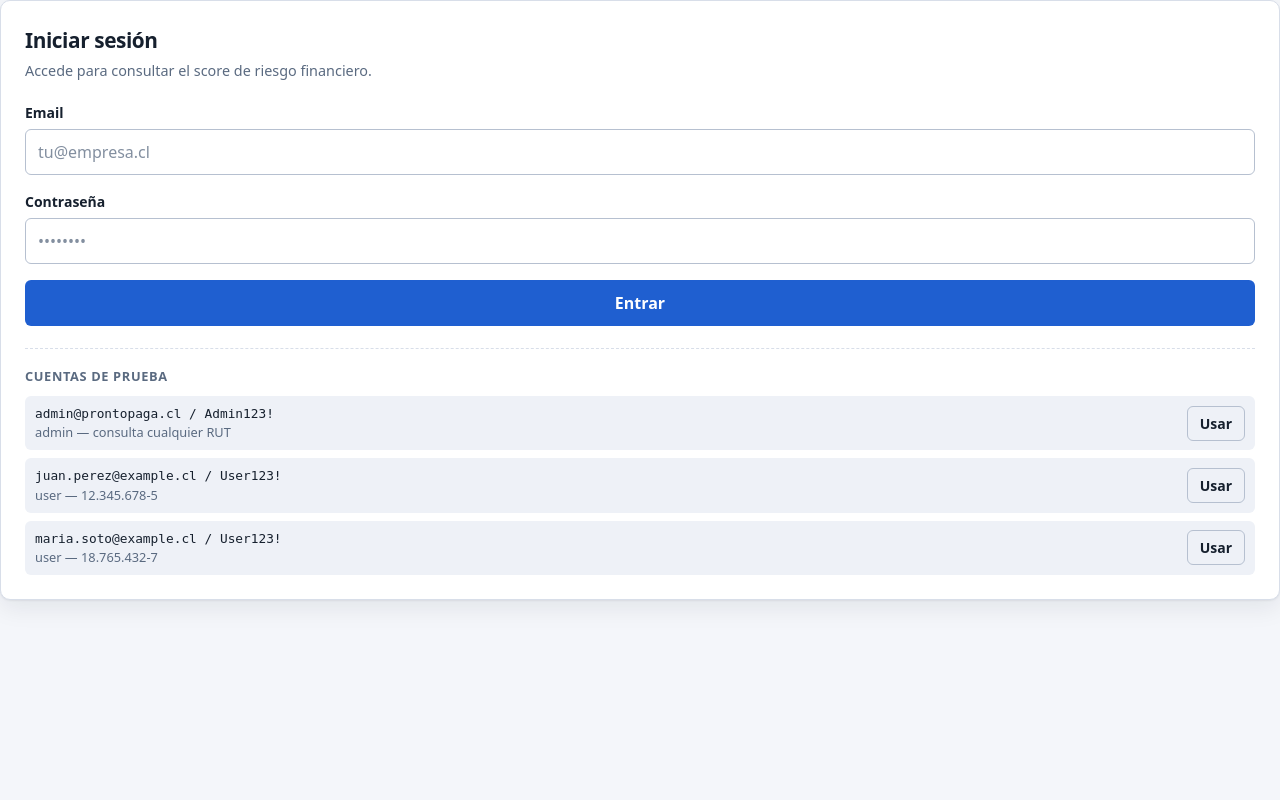
Test case: LoginPage › rechaza un email con formato invalido
Type "esto-no-es-un-email" into the field labelled "Email" at (640, 152), box [25,129,1255,175]
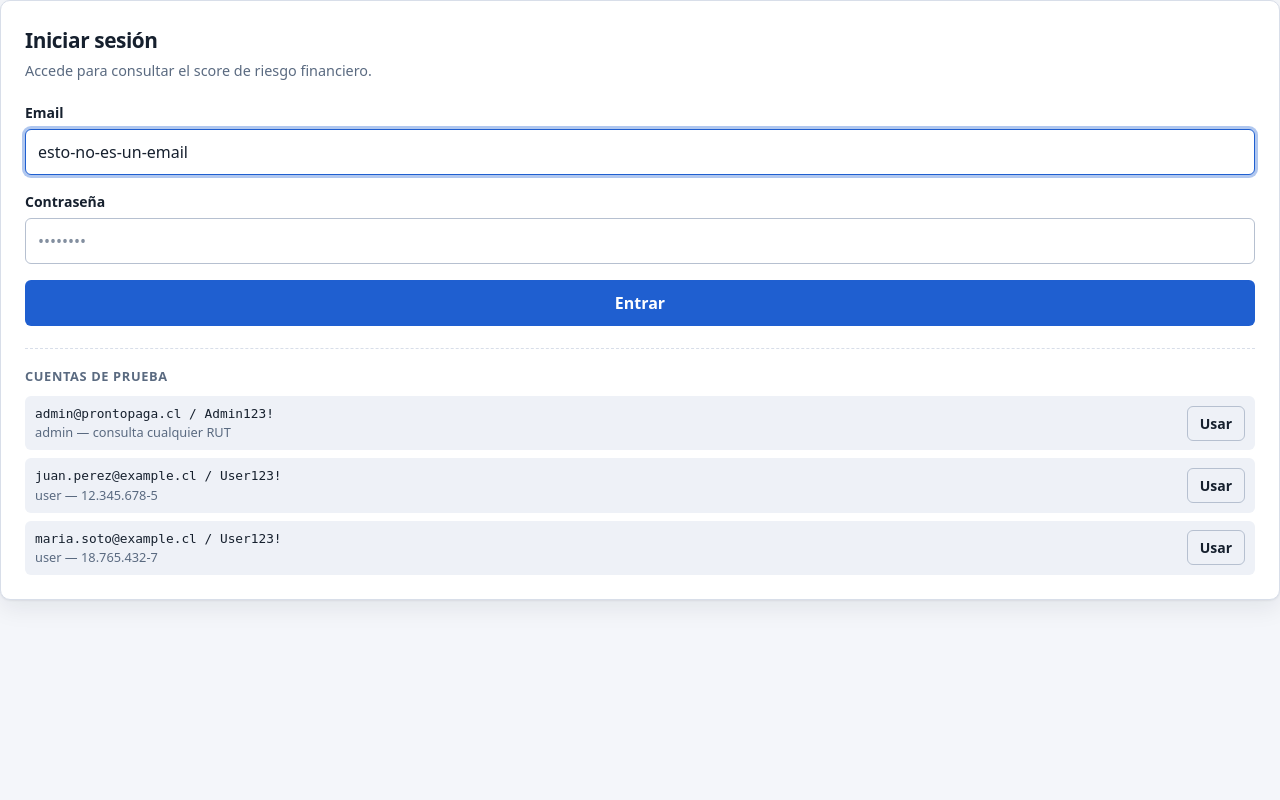
Type "cualquiera" into the password field labelled "Contraseña" at (640, 241), box [25,218,1255,264]
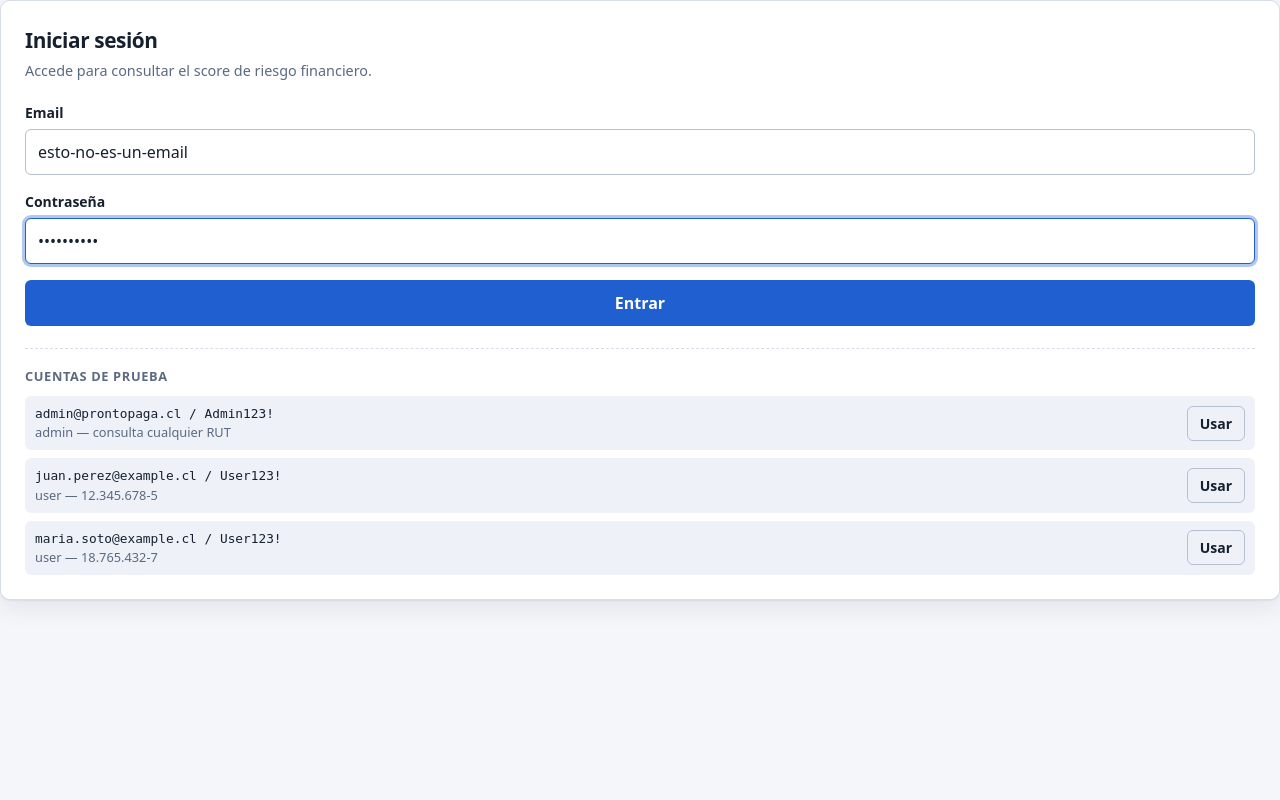
Click the button "Entrar" at (640, 303), box [25,280,1255,326]
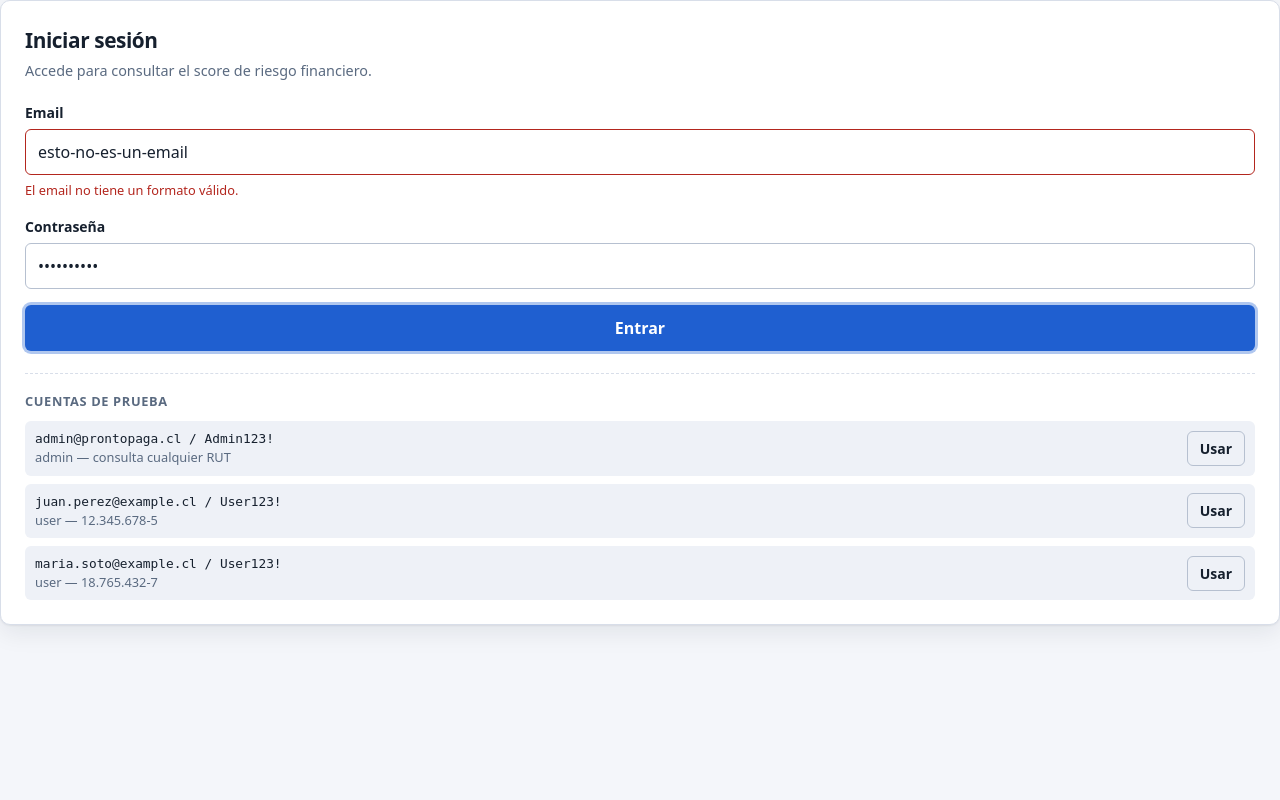
Result: the text "El email no tiene un formato válido." is shown at [25,181,238,199]
